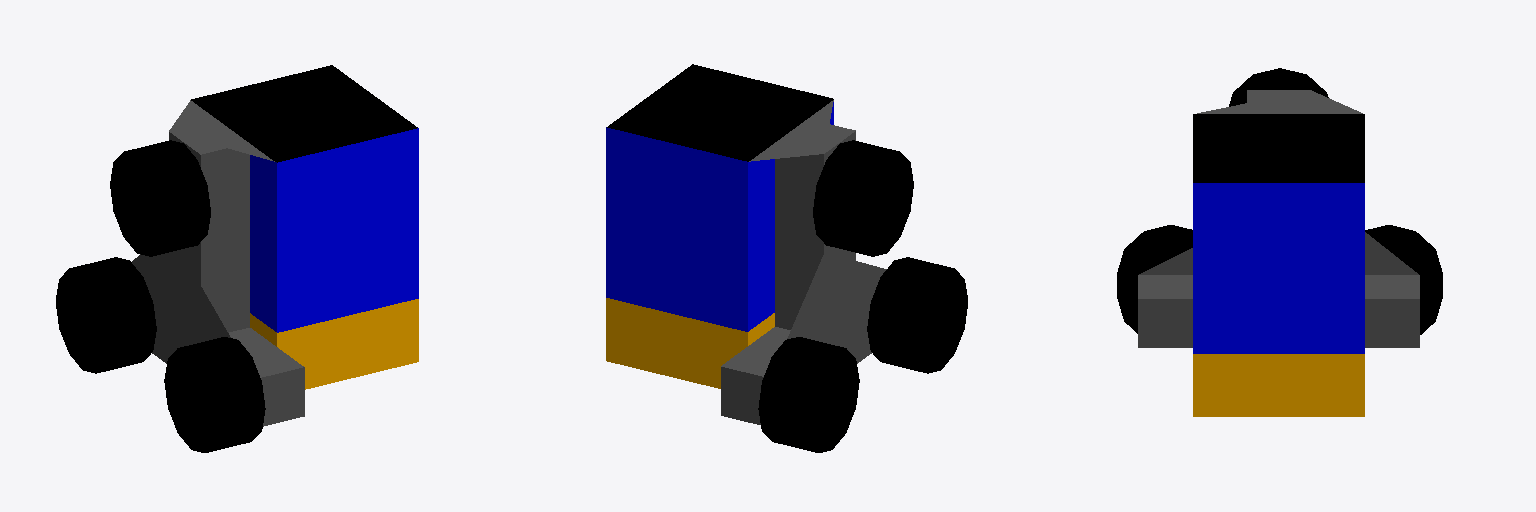
3 views of the same model, side by side, from view 1: azimuth 30°, elevation 25°; view 2: azimuth 150°, elevation 25°; view 3: azimuth 270°, elevation 25° (orthographic).
Visible parts, largest first — view 1: Plane.003; view 2: Plane.003; view 3: Plane.003.
Boxes of the visible parts, x1,y1,x2,y2 form: Plane.003: [56, 65, 418, 452]; Plane.003: [606, 64, 967, 452]; Plane.003: [1117, 68, 1442, 416].
Size of the model in its own units: 2.53 by 2.65 by 3.
Materials: 1 (1 with a texture image).